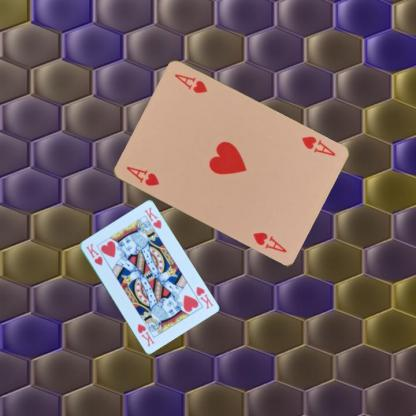Ah: (299, 133, 337, 158), (123, 163, 160, 188)
Kh: (193, 284, 214, 310), (84, 241, 104, 267)
